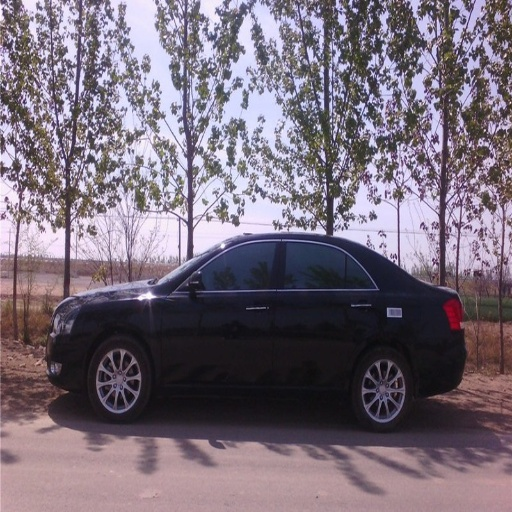back_left_door: (275, 239, 377, 385)
front_left_door: (161, 239, 283, 383)
